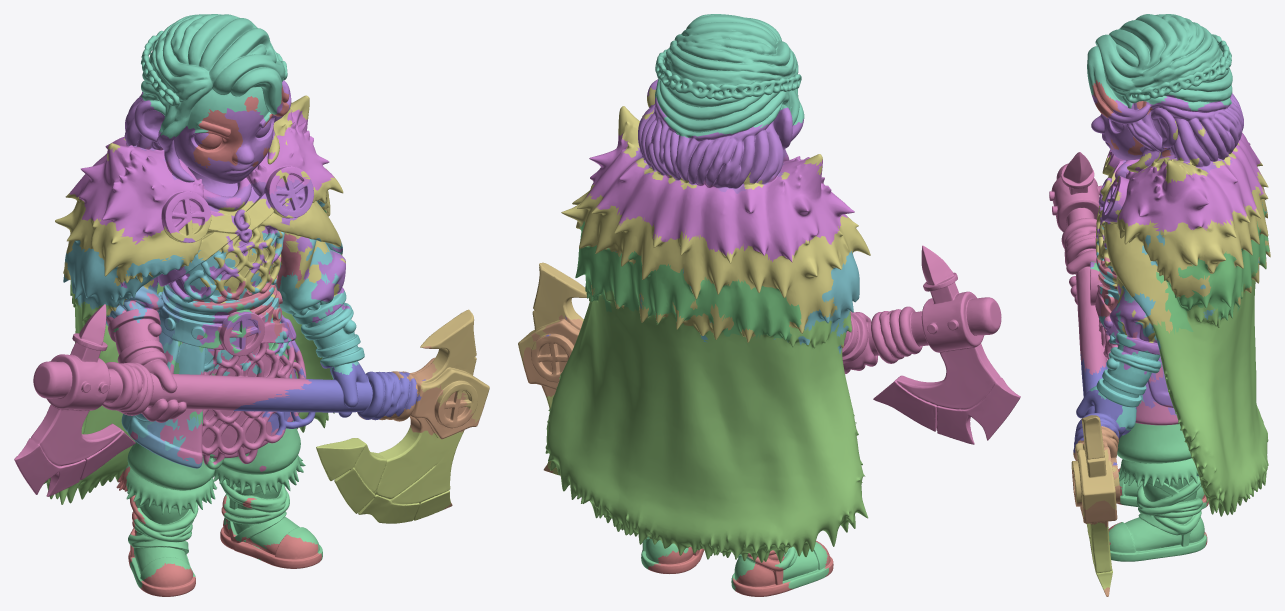
Rendered from parts_preview.glb.
The picture shows the model from 3 angles, left to right: view 1: azimuth 30°, elevation 25°; view 2: azimuth 150°, elevation 25°; view 3: azimuth 270°, elevation 25°; orthographic projection. The views are drawn at different scales.
Parts seen in each view (by area): view 1: Female_Warrior; view 2: Female_Warrior; view 3: Female_Warrior.
Part boxes in pixels (x1,y1,x2,y2): Female_Warrior: (14, 14, 489, 596); Female_Warrior: (518, 14, 1020, 596); Female_Warrior: (1049, 14, 1270, 596).
Size of the model in its own units: 0.8947 by 0.9577 by 0.3827.
